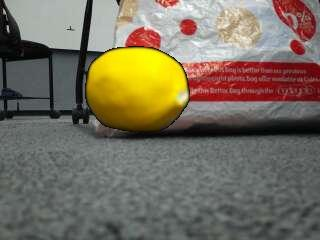lemon: (85, 49, 189, 132)
